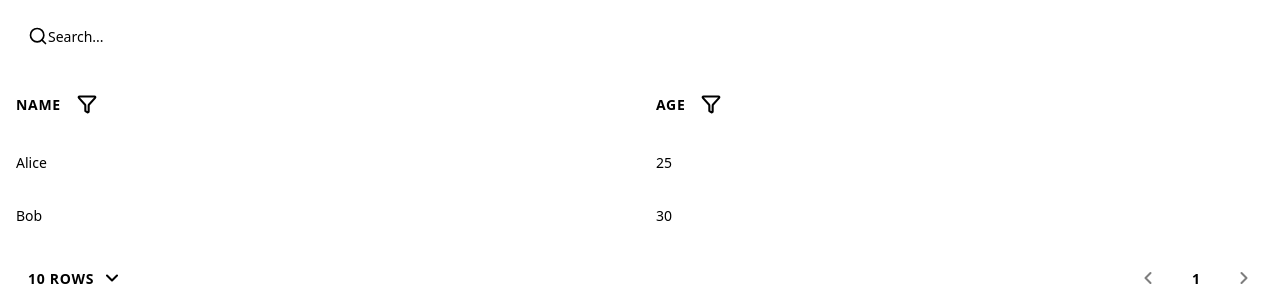
Table Component › string columns › should filter with string columns
In the field with placeholder "Search...": (160, 36) [16,16,304,56], type "Bob"
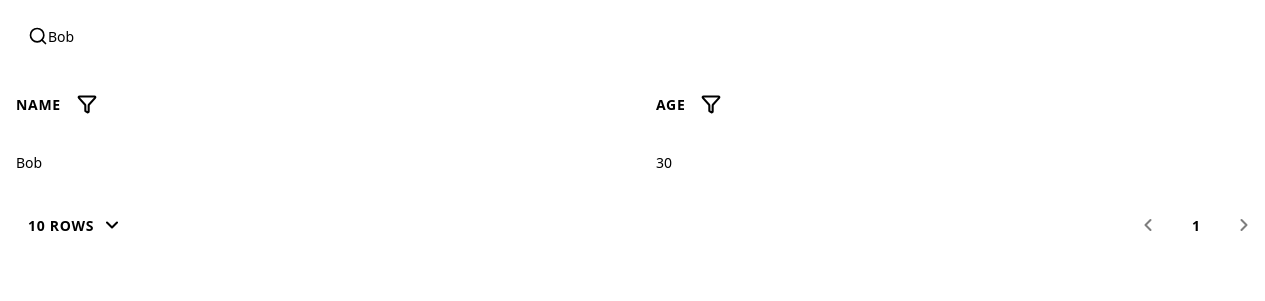
Check: the text "Bob" is shown, box [0,136,640,189]
Check: the text "Alice" is gone
